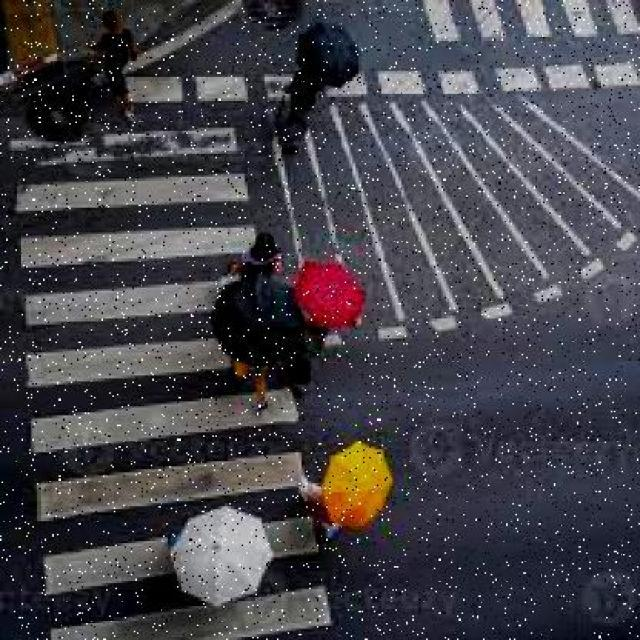crosswalk: (11, 123, 331, 640), (422, 0, 640, 41)
